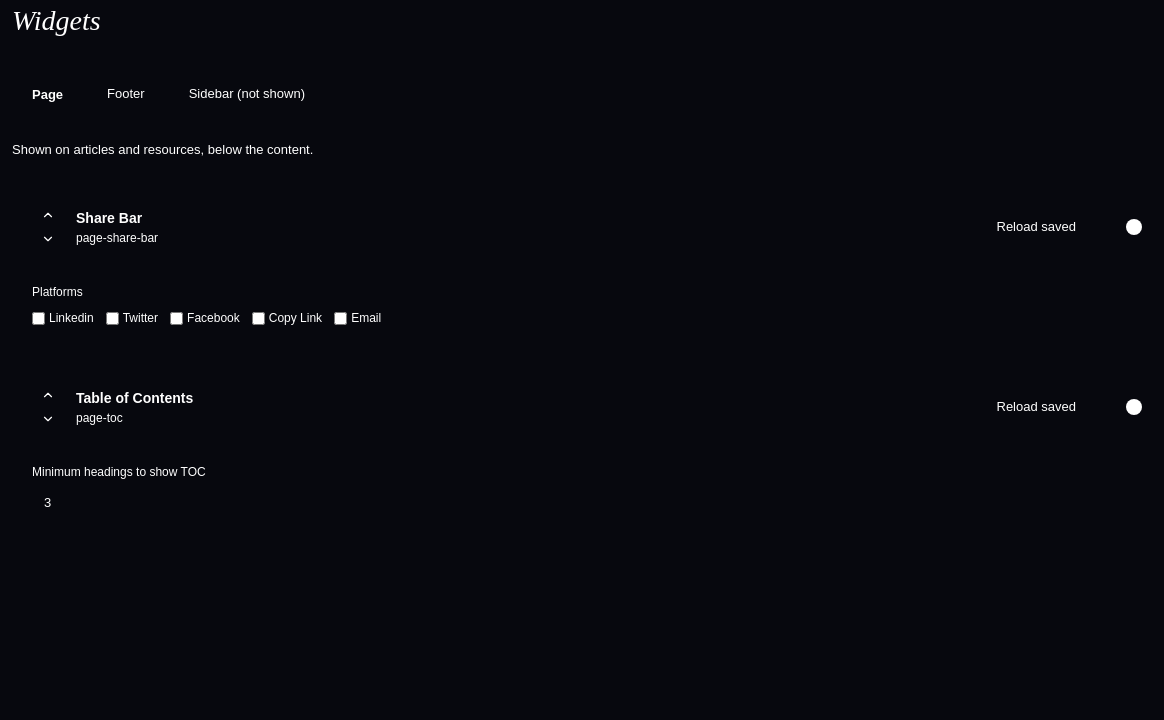
Test: WidgetsManager › opens on the Page zone and explains that sidebar widgets are not shown
expect the text "Share Bar" is shown: met, box [76,210,142,226]
Click the tab "Sidebar (not shown)": (247, 95) [169,74,325,116]
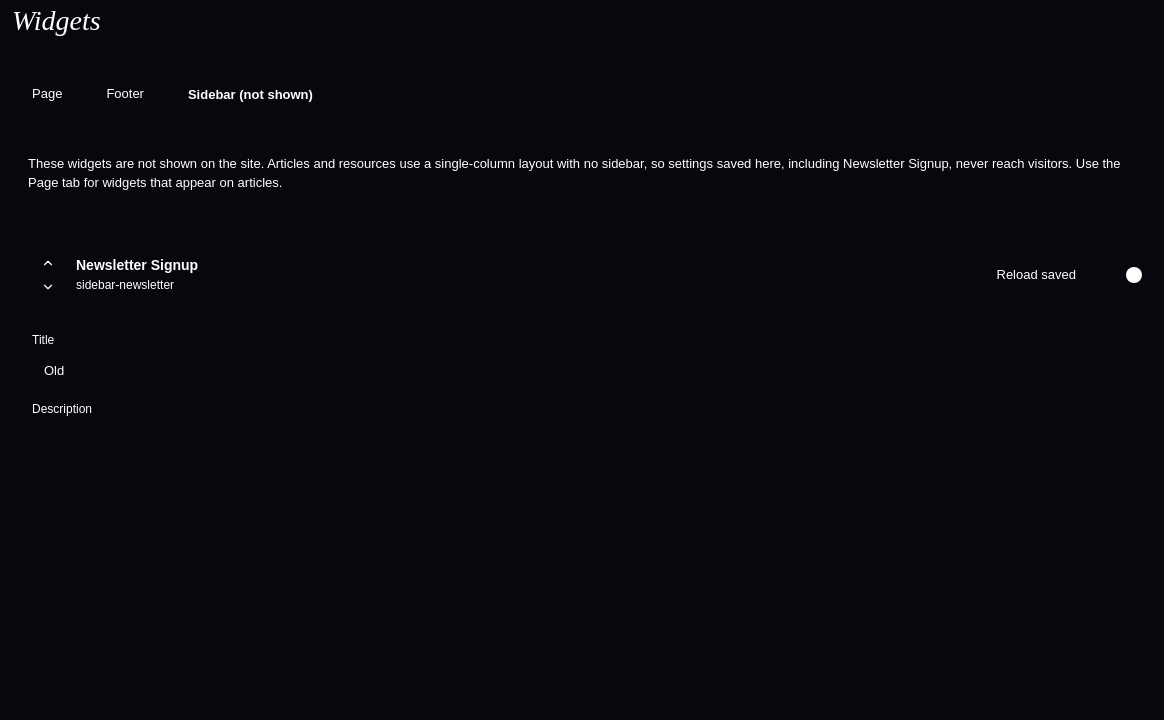
expect the text "not shown on the site" is shown: met, box [28,156,1121,190]
